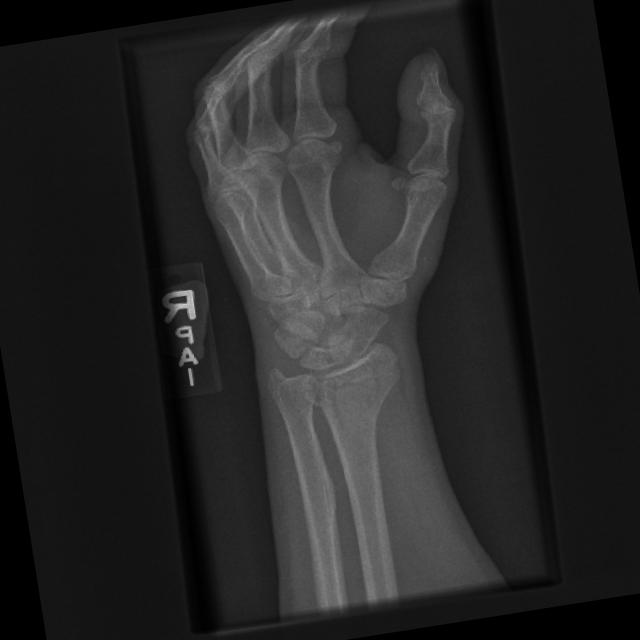wrist positive: (259, 355, 420, 409)
